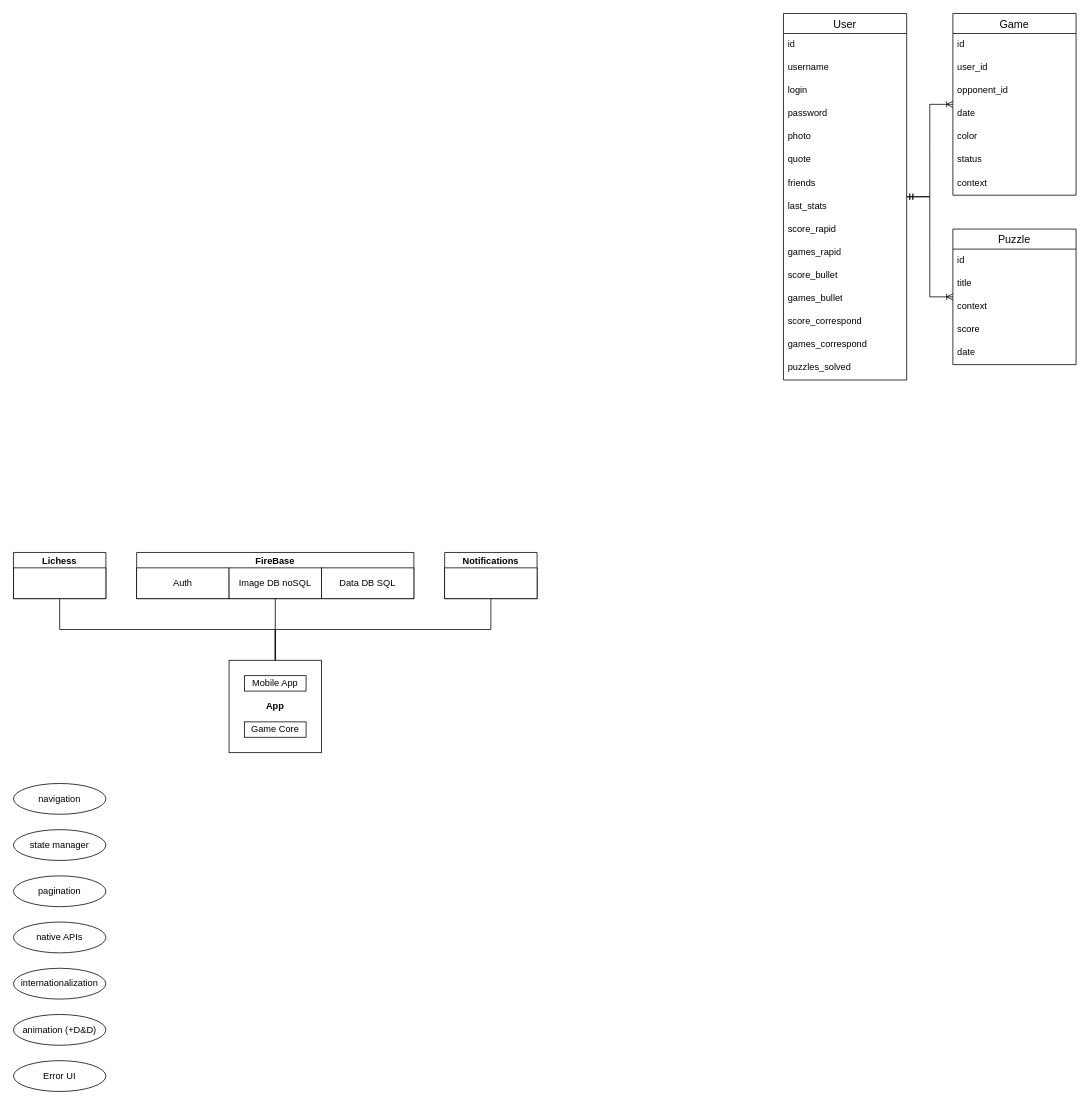
The diagram is 1090 pixels wide and 1105 high, and some of its shapes have lost their labels. The centre of each missing label's shape, as x and y in pixels:
"Game Sevices API" goes at point (59, 583).
"Push Notifications" goes at point (490, 583).
